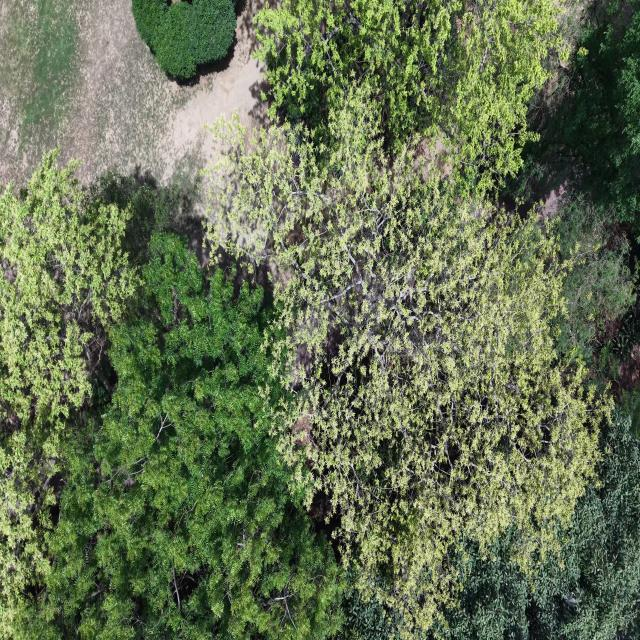DRY_AREA: (0, 0, 265, 187)
VEGETATION_TREE: (0, 0, 639, 639), (208, 94, 608, 630), (0, 154, 343, 638), (27, 234, 342, 639), (0, 153, 136, 637), (256, 0, 560, 189), (430, 411, 639, 639), (0, 152, 136, 423), (512, 3, 639, 235), (557, 13, 639, 234), (555, 196, 635, 362), (0, 0, 81, 153), (88, 173, 180, 267), (132, 0, 236, 78)
